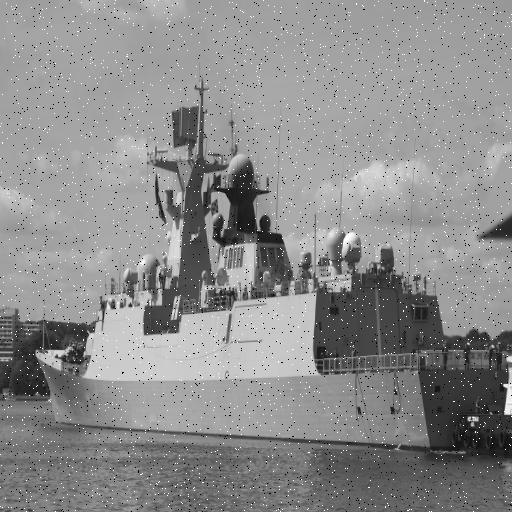Fragata: (31, 70, 512, 455)
